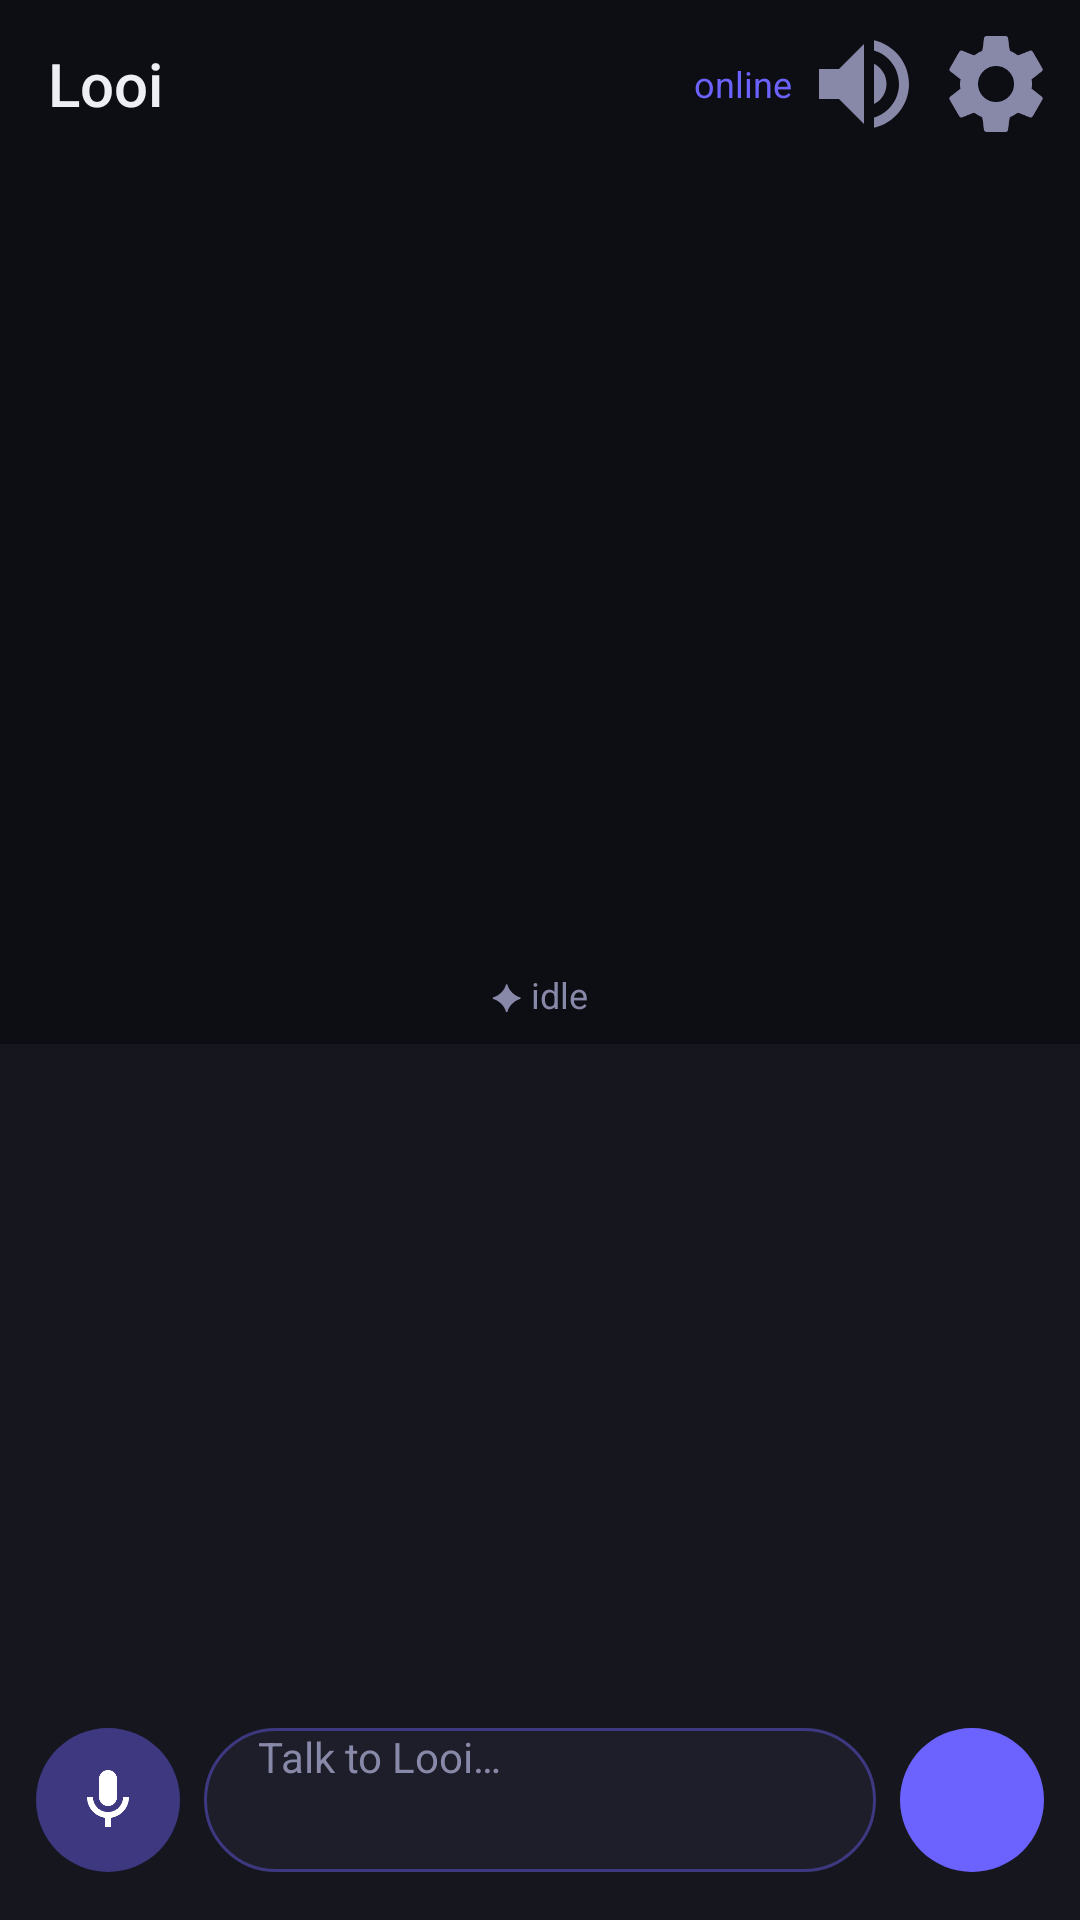

Point at icon controls on the screen. Image size 1080w x 1920h, points as point (x, y).
Hold to speak: point (108, 1800)
Settings: point (996, 84)
Toggle voice reply: point (864, 84)
